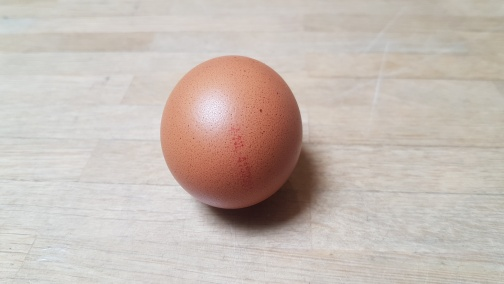egg: (159, 53, 304, 211)
